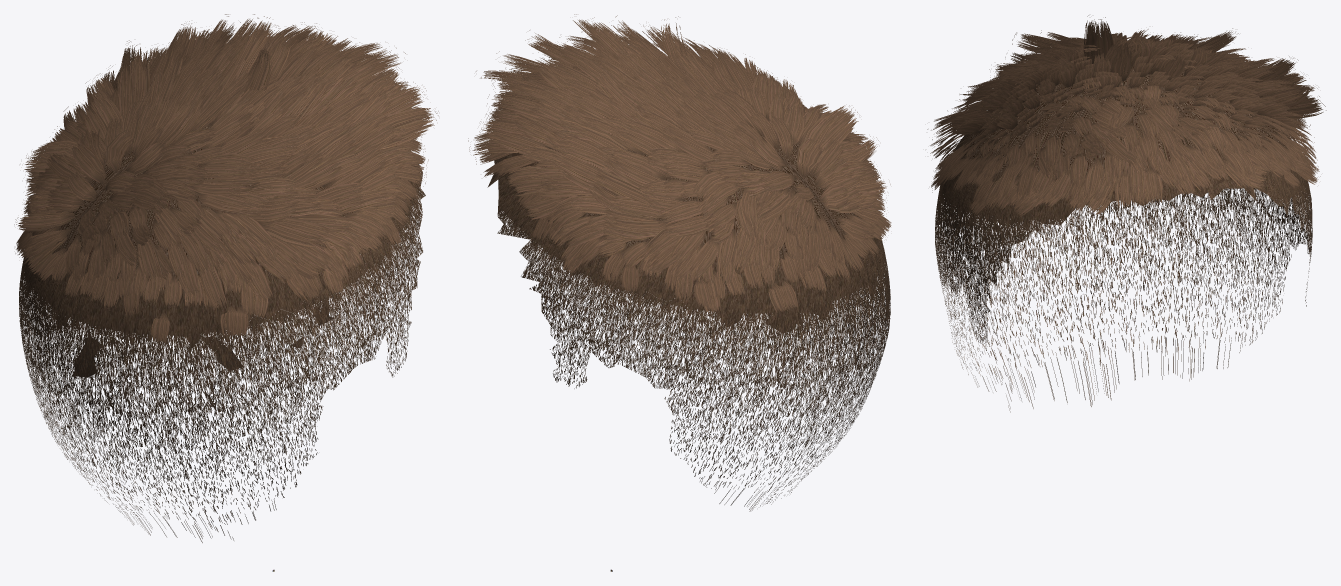
Rendered from hair-male-crop.glb.
3 renders of one model, left to right at view 1: azimuth 30°, elevation 25°; view 2: azimuth 150°, elevation 25°; view 3: azimuth 270°, elevation 25°, orthographic. The views are drawn at different scales.
Parts seen in each view (by area): view 1: Hair_crop_cards, Hair_crop_fade, Hair_crop_cap; view 2: Hair_crop_cards, Hair_crop_fade, Hair_crop_cap; view 3: Hair_crop_cards, Hair_crop_fade.
Boxes of the visible parts, x1,y1,x2,y2 form: Hair_crop_cards: (14,14,438,344); Hair_crop_fade: (19,123,425,542); Hair_crop_cap: (22,183,343,377); Hair_crop_cards: (468,14,891,314); Hair_crop_fade: (487,107,890,511); Hair_crop_cap: (497,153,889,332); Hair_crop_cards: (927,15,1326,216); Hair_crop_fade: (935,64,1312,412).
Size of the model in its own units: 0.1954 by 0.273 by 0.1856.
4 materials, 3 textured.
